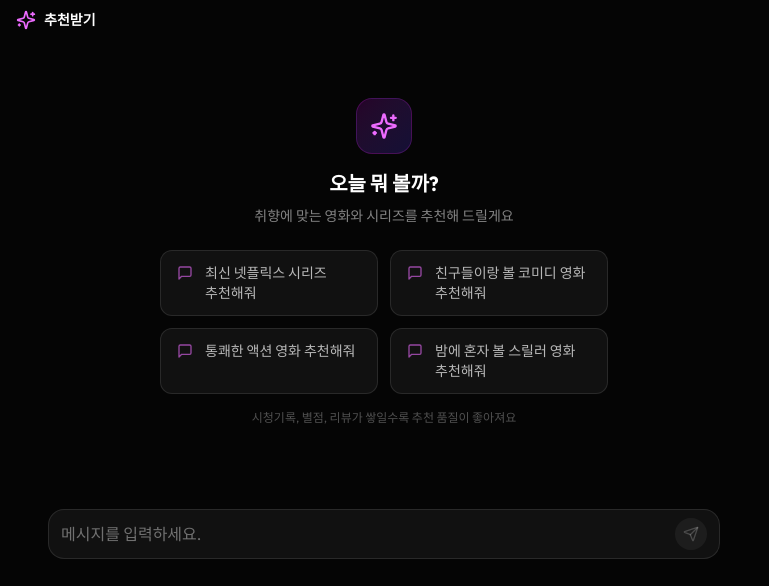
ChatSection › 텍스트 없는 오류를 메시지 스크롤 영역의 마지막 버블로 표시한다
Click the button "통쾌한 액션 영화 추천해줘": point(269, 361) x1=160 y1=328 x2=378 y2=394
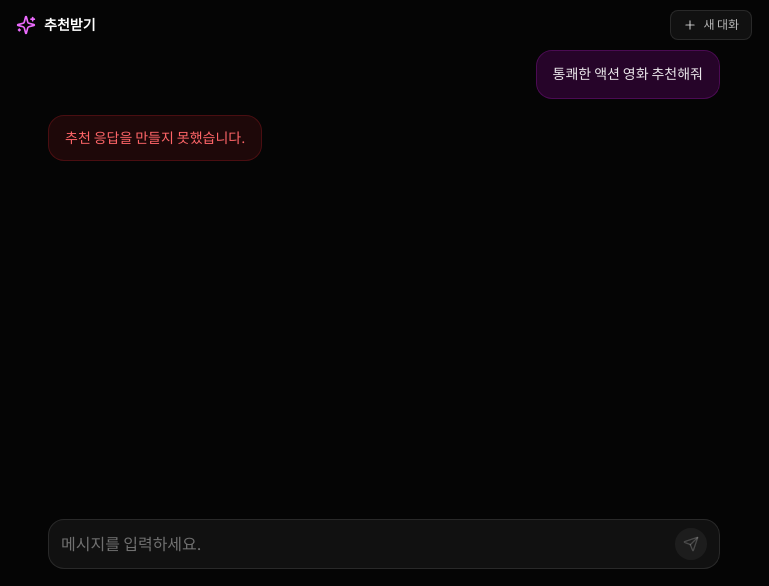
Expected: the message reads "추천 응답을 만들지 못했습니다.", x1=65 y1=129 x2=245 y2=147
